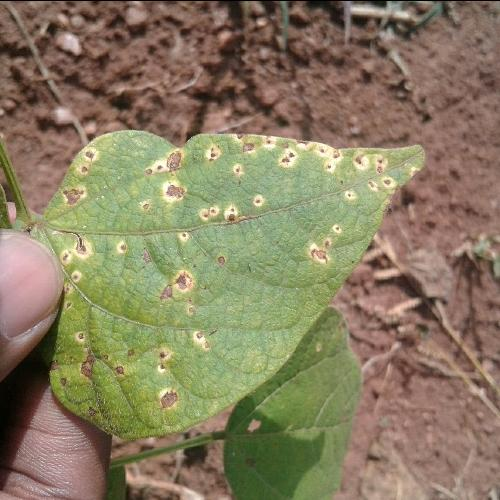hawar: (224, 110, 408, 276), (56, 112, 216, 228), (127, 243, 194, 429)
